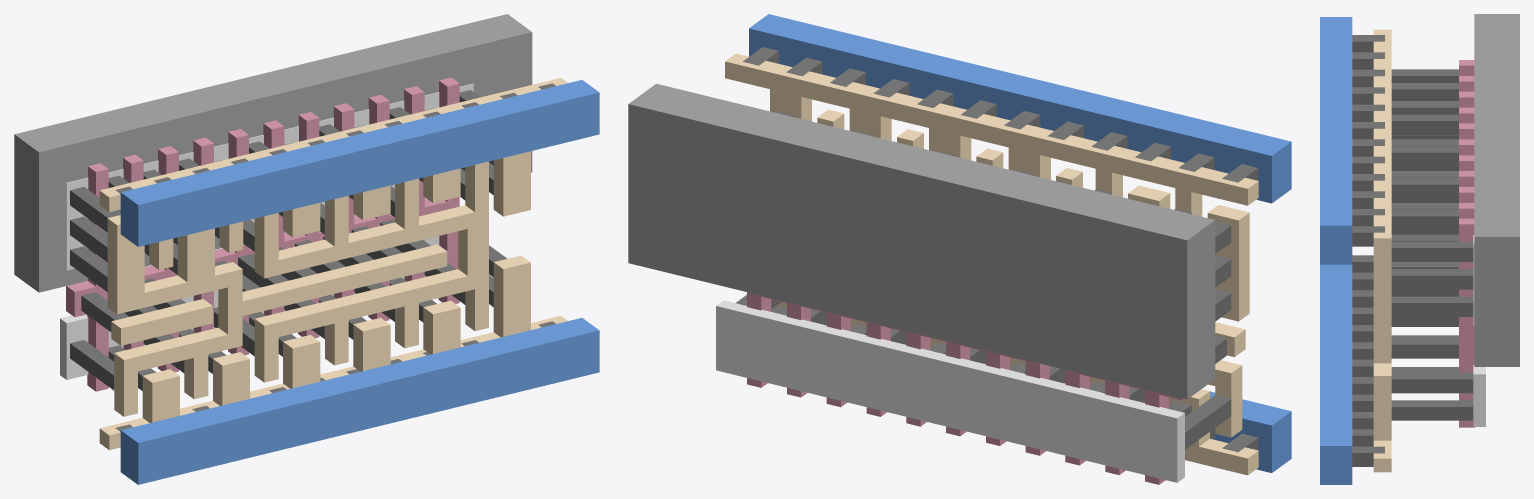
File: sky130_fd_sc_hd__buf_8.gds.gltf
3 renders of one model, left to right at view 1: azimuth 30°, elevation 25°; view 2: azimuth 150°, elevation 25°; view 3: azimuth 270°, elevation 25°, orthographic. The views are drawn at different scales.
Parts seen in each view (by area): view 1: sky130_fd_sc_hd__buf_8_li1, sky130_fd_sc_hd__buf_8_met1, sky130_fd_sc_hd__buf_8_nwell, sky130_fd_sc_hd__buf_8_licon, sky130_fd_sc_hd__buf_8_poly, sky130_fd_sc_hd__buf_8_diff, sky130_fd_sc_hd__buf_8_mcon; view 2: sky130_fd_sc_hd__buf_8_nwell, sky130_fd_sc_hd__buf_8_diff, sky130_fd_sc_hd__buf_8_li1, sky130_fd_sc_hd__buf_8_met1, sky130_fd_sc_hd__buf_8_poly, sky130_fd_sc_hd__buf_8_mcon, sky130_fd_sc_hd__buf_8_licon; view 3: sky130_fd_sc_hd__buf_8_licon, sky130_fd_sc_hd__buf_8_nwell, sky130_fd_sc_hd__buf_8_met1, sky130_fd_sc_hd__buf_8_mcon, sky130_fd_sc_hd__buf_8_li1, sky130_fd_sc_hd__buf_8_poly, sky130_fd_sc_hd__buf_8_diff.
Part boxes in pixels (left/top/right/bottom): sky130_fd_sc_hd__buf_8_li1: left=99, top=78, right=567, bottom=450; sky130_fd_sc_hd__buf_8_met1: left=120, top=80, right=599, bottom=484; sky130_fd_sc_hd__buf_8_nwell: left=14, top=14, right=532, bottom=292; sky130_fd_sc_hd__buf_8_licon: left=70, top=90, right=507, bottom=390; sky130_fd_sc_hd__buf_8_poly: left=66, top=77, right=459, bottom=391; sky130_fd_sc_hd__buf_8_diff: left=60, top=83, right=473, bottom=379; sky130_fd_sc_hd__buf_8_mcon: left=115, top=83, right=555, bottom=431; sky130_fd_sc_hd__buf_8_nwell: left=628, top=83, right=1215, bottom=399; sky130_fd_sc_hd__buf_8_diff: left=716, top=300, right=1184, bottom=482; sky130_fd_sc_hd__buf_8_li1: left=725, top=53, right=1258, bottom=475; sky130_fd_sc_hd__buf_8_met1: left=749, top=14, right=1291, bottom=472; sky130_fd_sc_hd__buf_8_poly: left=747, top=292, right=1184, bottom=484; sky130_fd_sc_hd__buf_8_mcon: left=743, top=47, right=1258, bottom=452; sky130_fd_sc_hd__buf_8_licon: left=735, top=112, right=1231, bottom=449; sky130_fd_sc_hd__buf_8_licon: left=1391, top=69, right=1473, bottom=420; sky130_fd_sc_hd__buf_8_nwell: left=1474, top=14, right=1519, bottom=366; sky130_fd_sc_hd__buf_8_met1: left=1320, top=17, right=1352, bottom=484; sky130_fd_sc_hd__buf_8_mcon: left=1352, top=35, right=1384, bottom=466; sky130_fd_sc_hd__buf_8_li1: left=1373, top=29, right=1391, bottom=472; sky130_fd_sc_hd__buf_8_poly: left=1459, top=60, right=1475, bottom=427; sky130_fd_sc_hd__buf_8_diff: left=1473, top=235, right=1485, bottom=426.
Size of the model in its own units: 5.9 by 3.2 by 2.24.
